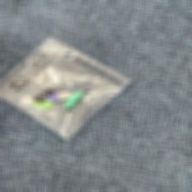러키펜정: (20, 96, 34, 107)
씨엠지세파클러캡슐: (47, 92, 72, 101)
에르도캡슐: (64, 92, 85, 109)
휴티렌정: (34, 100, 54, 109)
